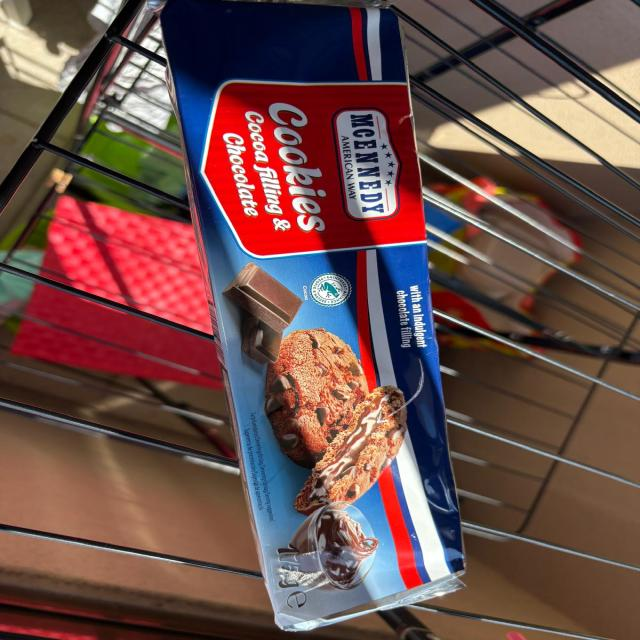good_package: (141, 0, 473, 634)
